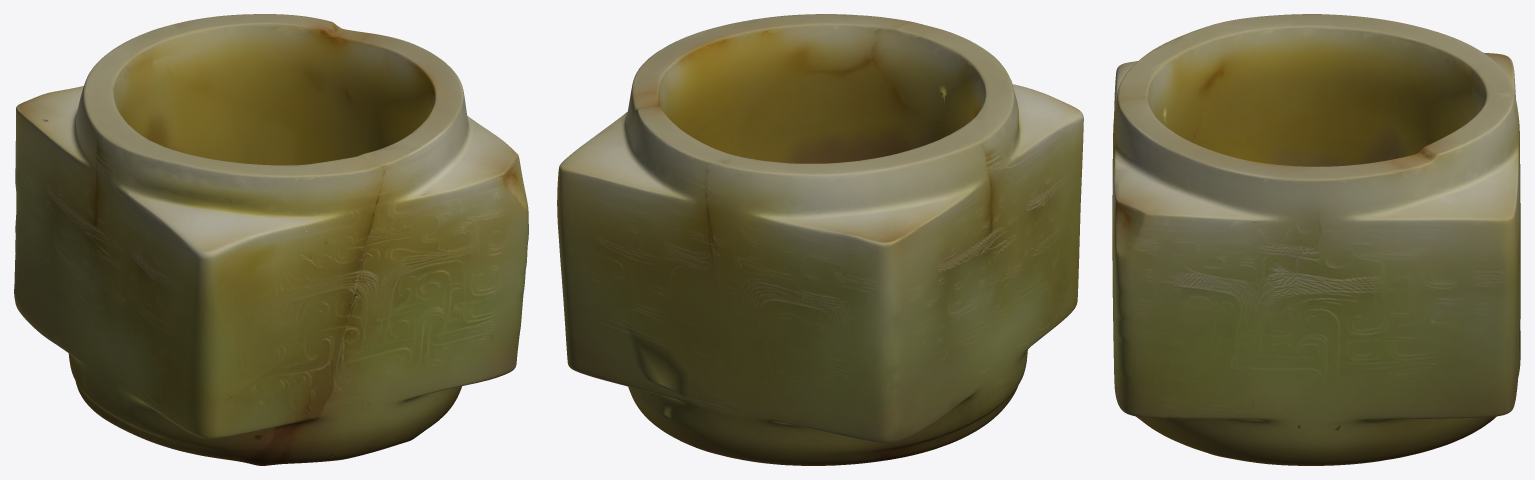
File: zenghouyi-detail.glb
3 views of the same model, side by side, from view 1: azimuth 30°, elevation 25°; view 2: azimuth 150°, elevation 25°; view 3: azimuth 270°, elevation 25° (orthographic).
Visible parts, largest first — view 1: node_0; view 2: node_0; view 3: node_0.
Part boxes in pixels (left/top/right/bottom): node_0: left=14, top=14, right=528, bottom=465; node_0: left=557, top=14, right=1083, bottom=465; node_0: left=1112, top=14, right=1520, bottom=465.
Bounding box in the file's own units: 0.8146 × 0.6681 × 0.8279.
1 material, 1 textured.
